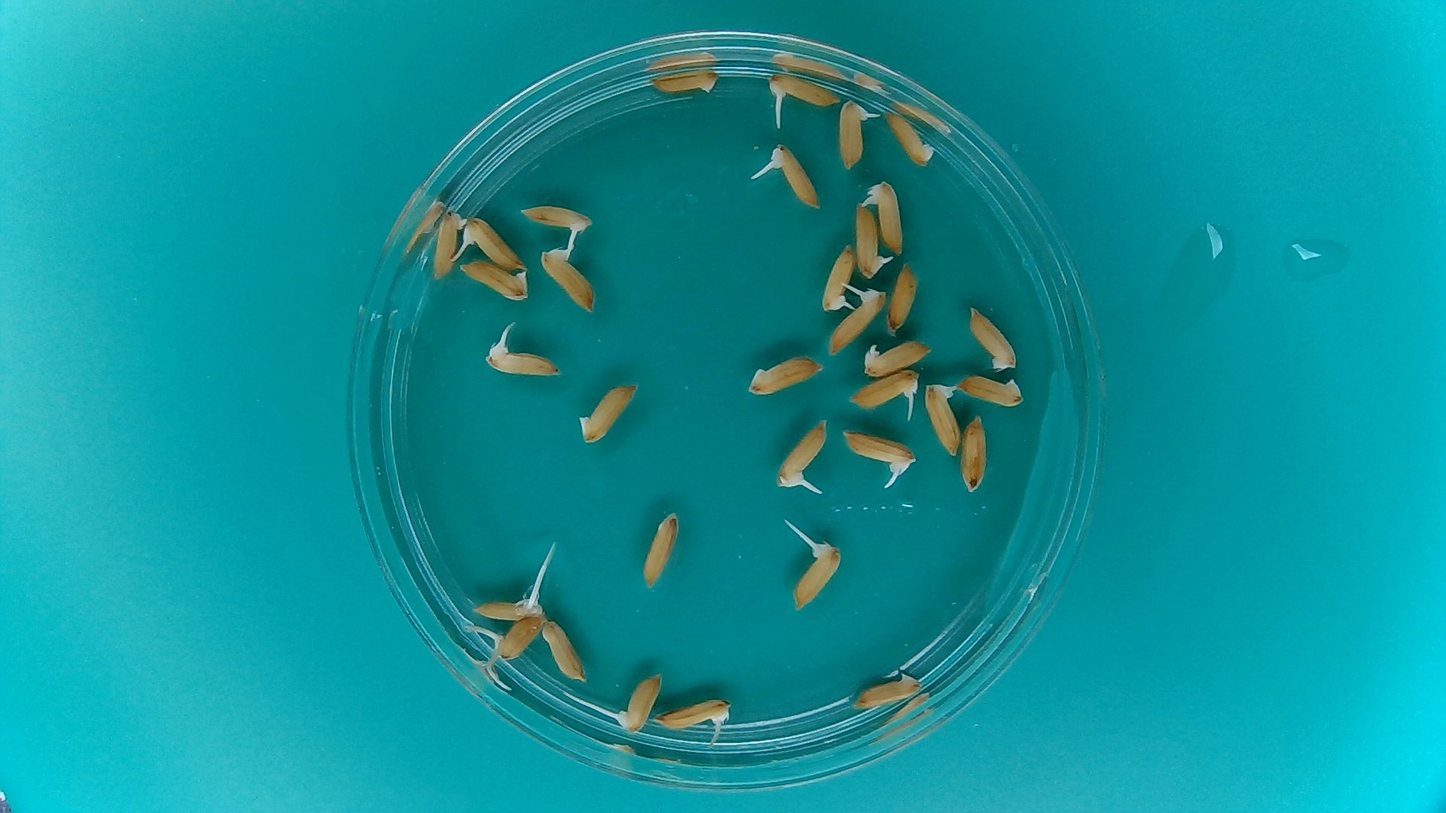no: (575, 376, 643, 446), (965, 299, 1021, 374), (636, 505, 684, 592), (849, 665, 928, 714), (744, 352, 828, 397), (455, 258, 531, 303), (884, 109, 938, 168), (542, 617, 587, 686), (956, 410, 991, 496), (885, 259, 922, 336), (953, 372, 1027, 409), (432, 204, 465, 283), (923, 379, 956, 454), (645, 66, 721, 96)
yes: (826, 280, 888, 358), (773, 414, 830, 491), (838, 430, 916, 485), (459, 213, 527, 271), (538, 249, 596, 316), (844, 367, 922, 414), (789, 539, 840, 610), (772, 145, 823, 214), (651, 695, 735, 736), (861, 335, 938, 379), (853, 198, 892, 279), (865, 179, 906, 256), (837, 98, 878, 173), (817, 240, 858, 315), (766, 69, 840, 110), (620, 668, 664, 731), (480, 346, 563, 379), (490, 614, 545, 660), (469, 590, 545, 620), (518, 206, 589, 235)
